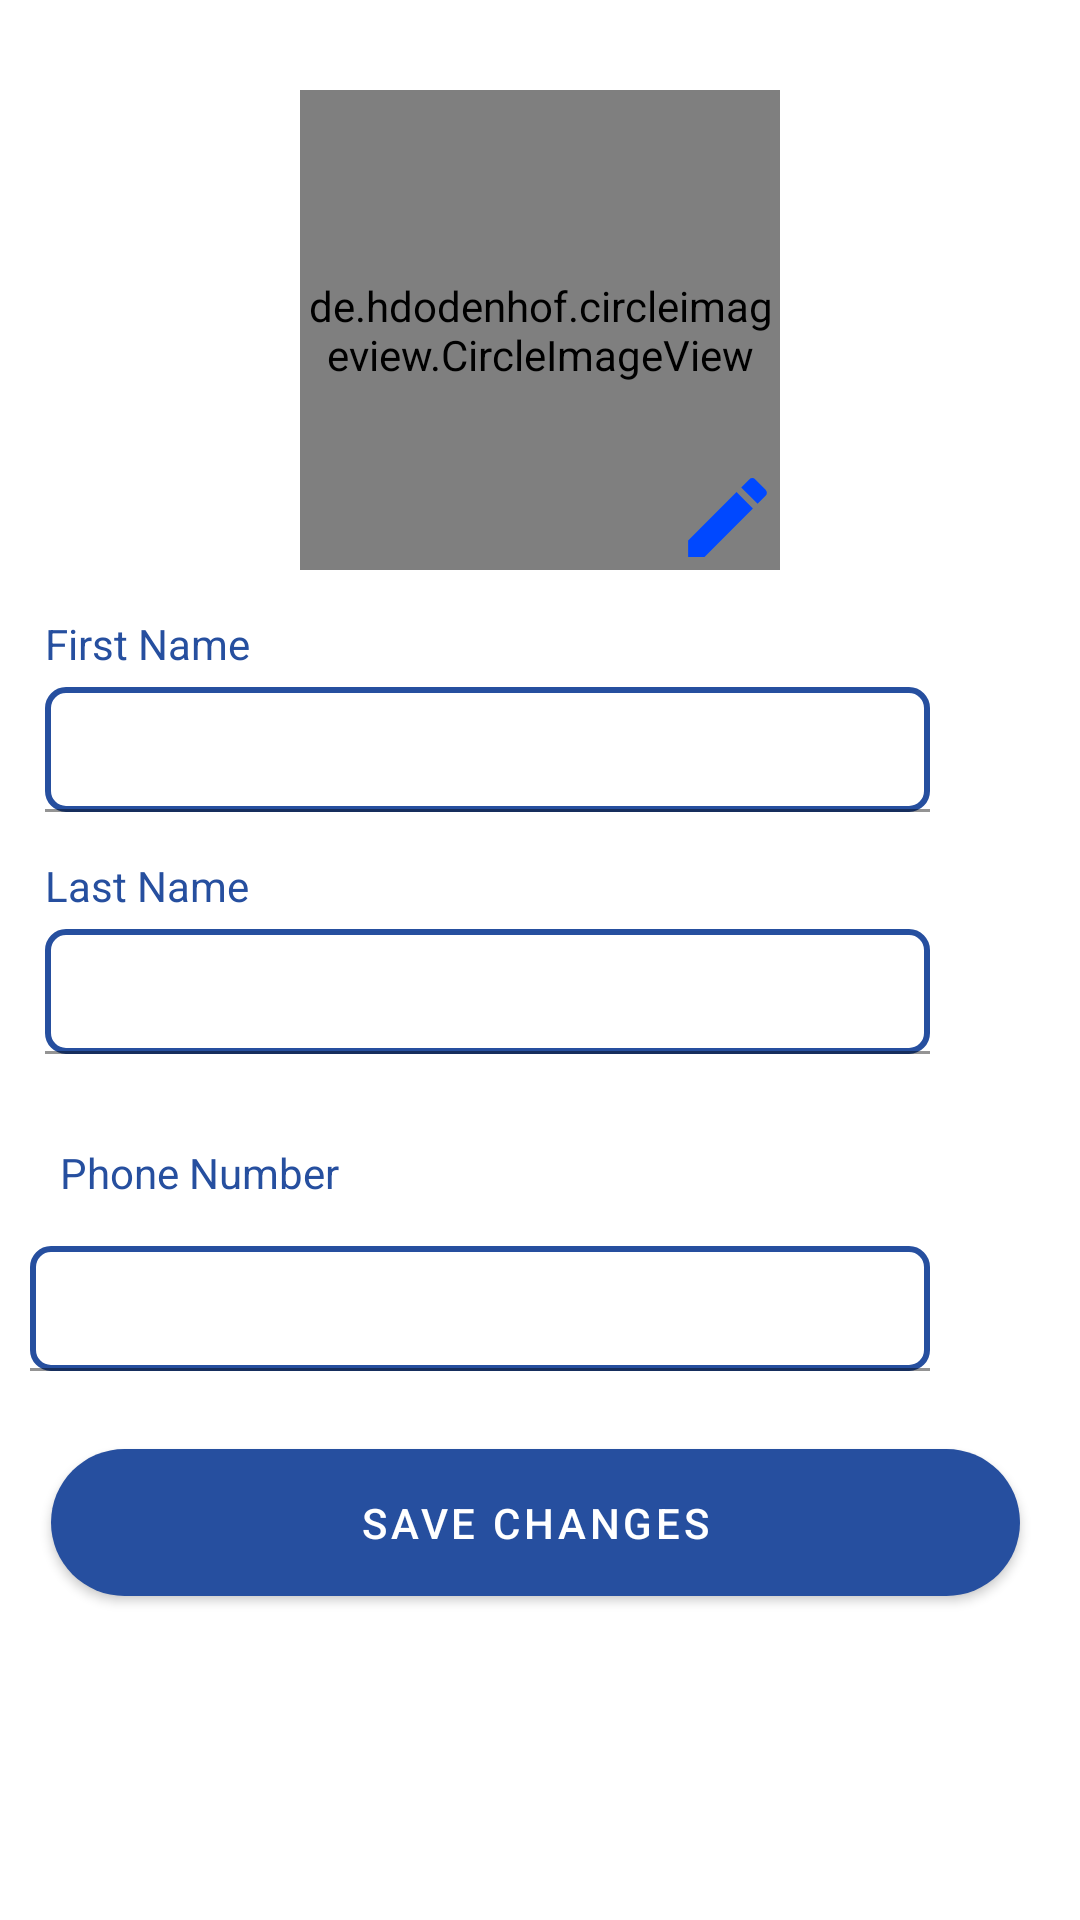

Named icons in this screenshot (1080 × 1920) and their centers, point (x, y):
edit profile: point (727, 517)
